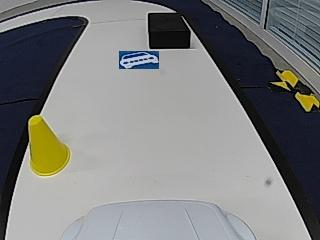block: (147, 12, 190, 48)
cone: (28, 116, 71, 175)
